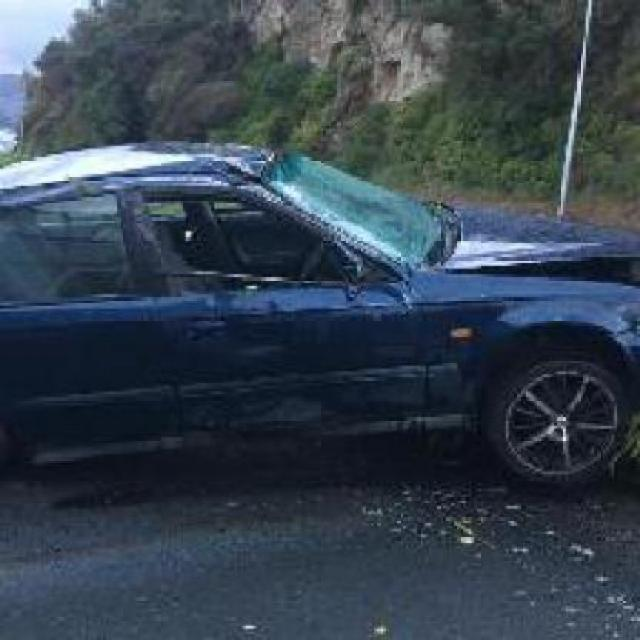damaged-door: (145, 176, 430, 442)
